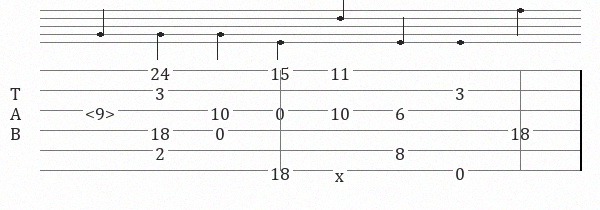0: (215, 122, 229, 138), (275, 102, 289, 118), (455, 162, 469, 178)
10: (210, 102, 234, 118), (330, 102, 354, 118)
11: (330, 62, 354, 78)
15: (270, 62, 294, 79)
18: (150, 122, 174, 138), (270, 162, 294, 178), (510, 122, 534, 138)
2: (155, 142, 169, 158)
24: (150, 62, 174, 78)
3: (155, 82, 169, 98), (455, 82, 469, 98)
6: (395, 102, 409, 118)
8: (395, 142, 409, 158)
harmonic: (85, 102, 119, 118)
x: (335, 164, 348, 177)
